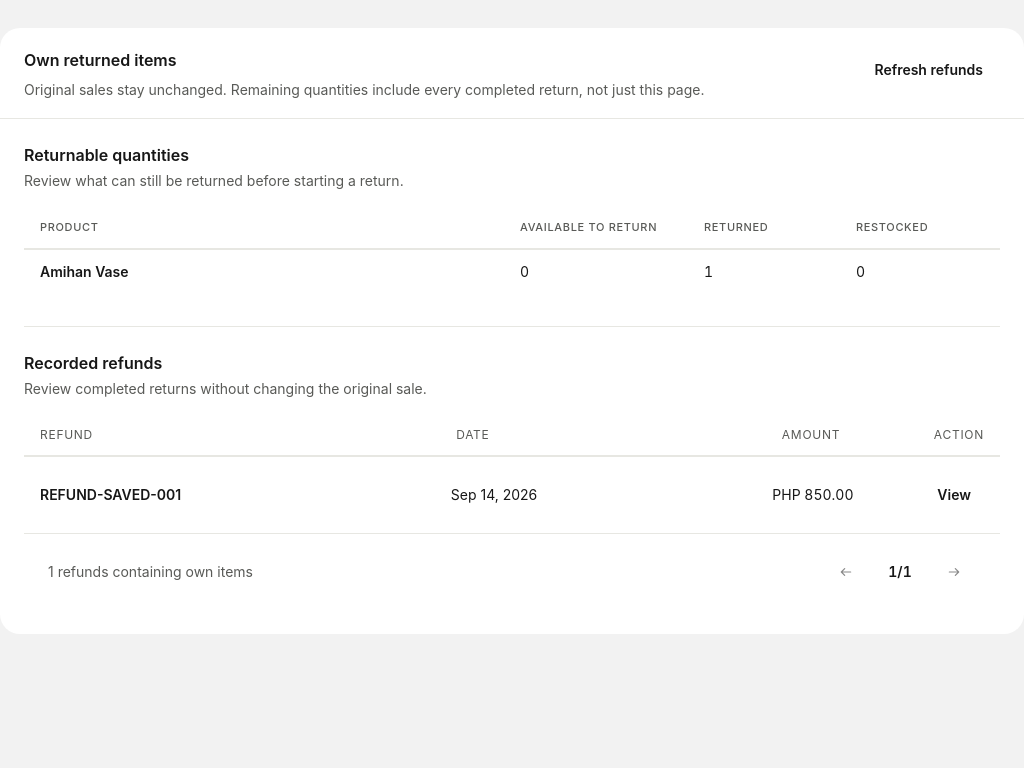
Test case: saved refund history and role privacy › shows merchant own-only refund lines and subtotal without staff, actor, payment or print exposure
The image size is (1024, 768).
Check: the text "PHP 850.00" is shown, box [772, 486, 854, 502]
Click the button "View": click(954, 494) [924, 472, 984, 516]
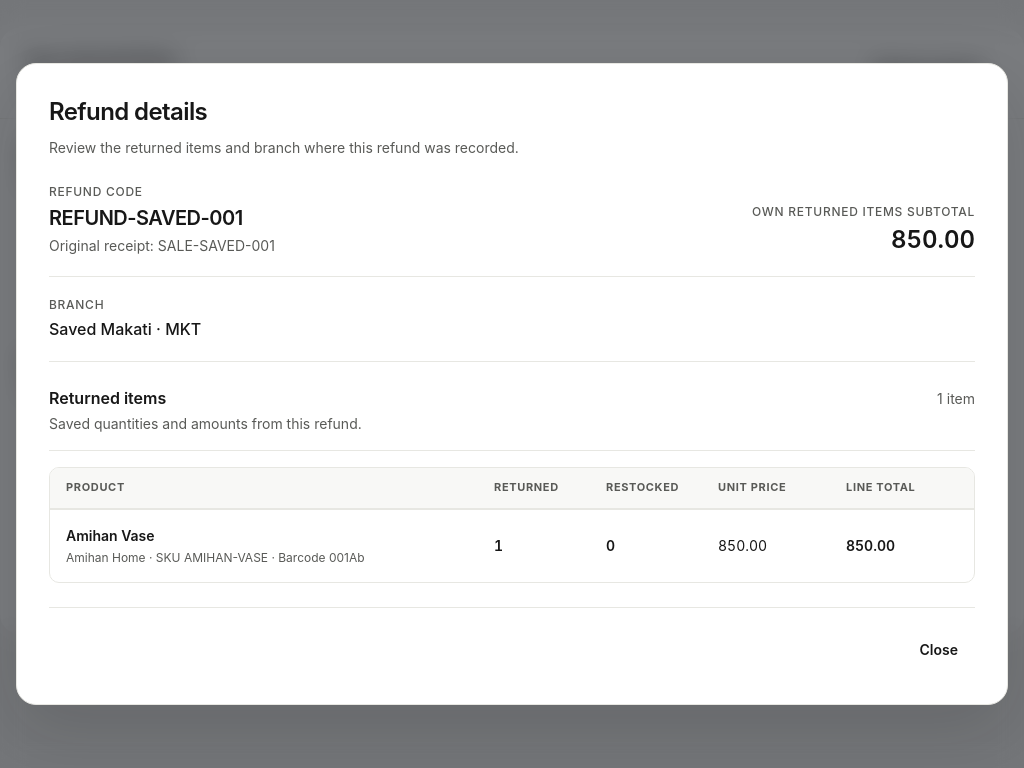
Check: the text "Own returned items subtotal" is shown, box [752, 204, 975, 220]
Check: the text "Saved Makati · MKT" is shown, box [49, 319, 201, 339]
